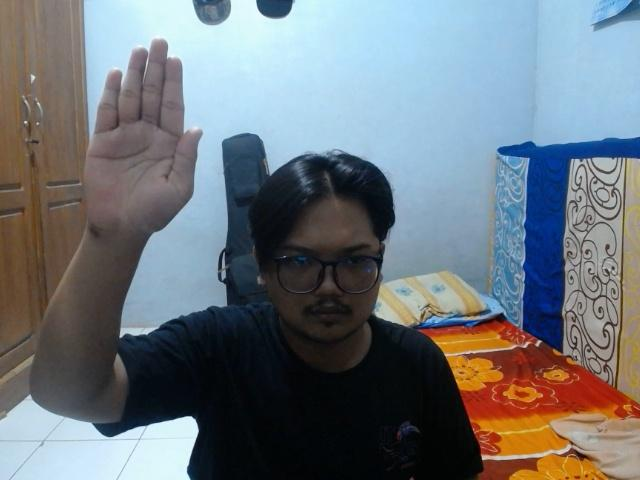Release: (78, 33, 208, 244)
